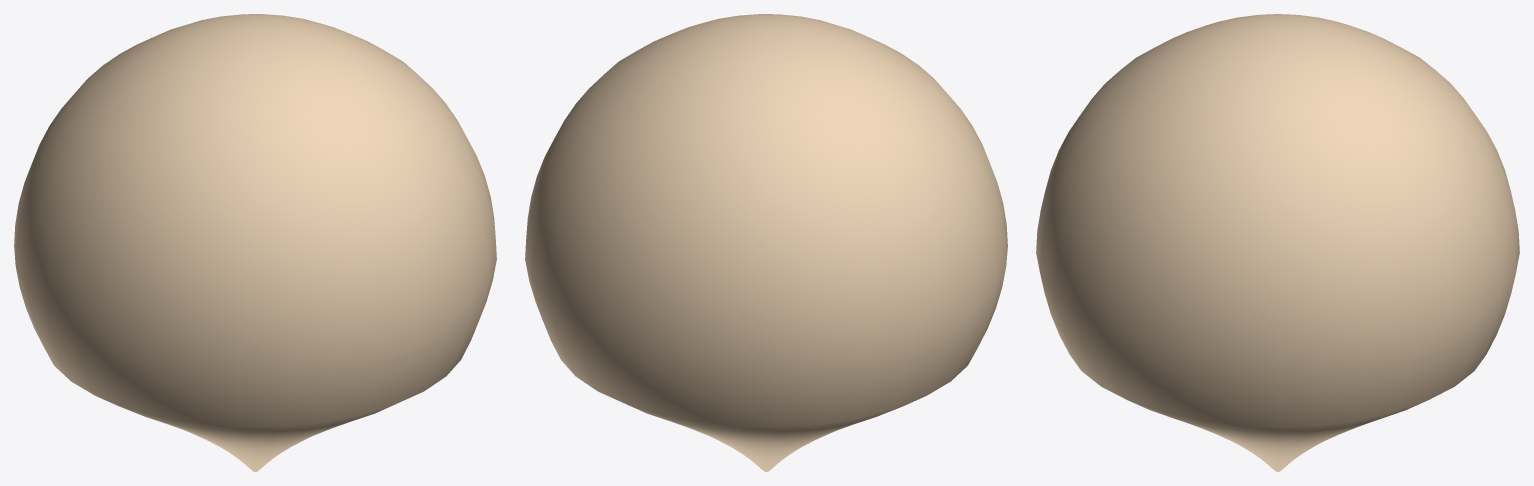
The model's file is round.glb.
3 views of the same model, side by side, from view 1: azimuth 30°, elevation 25°; view 2: azimuth 150°, elevation 25°; view 3: azimuth 270°, elevation 25° (orthographic).
Parts seen in each view (by area): view 1: Head_round; view 2: Head_round; view 3: Head_round.
Boxes of the visible parts, x1=… form: Head_round: x1=14, y1=14, x2=496, y2=471; Head_round: x1=525, y1=14, x2=1007, y2=471; Head_round: x1=1036, y1=14, x2=1519, y2=471.
Size of the model in its own units: 2 by 2 by 2.
